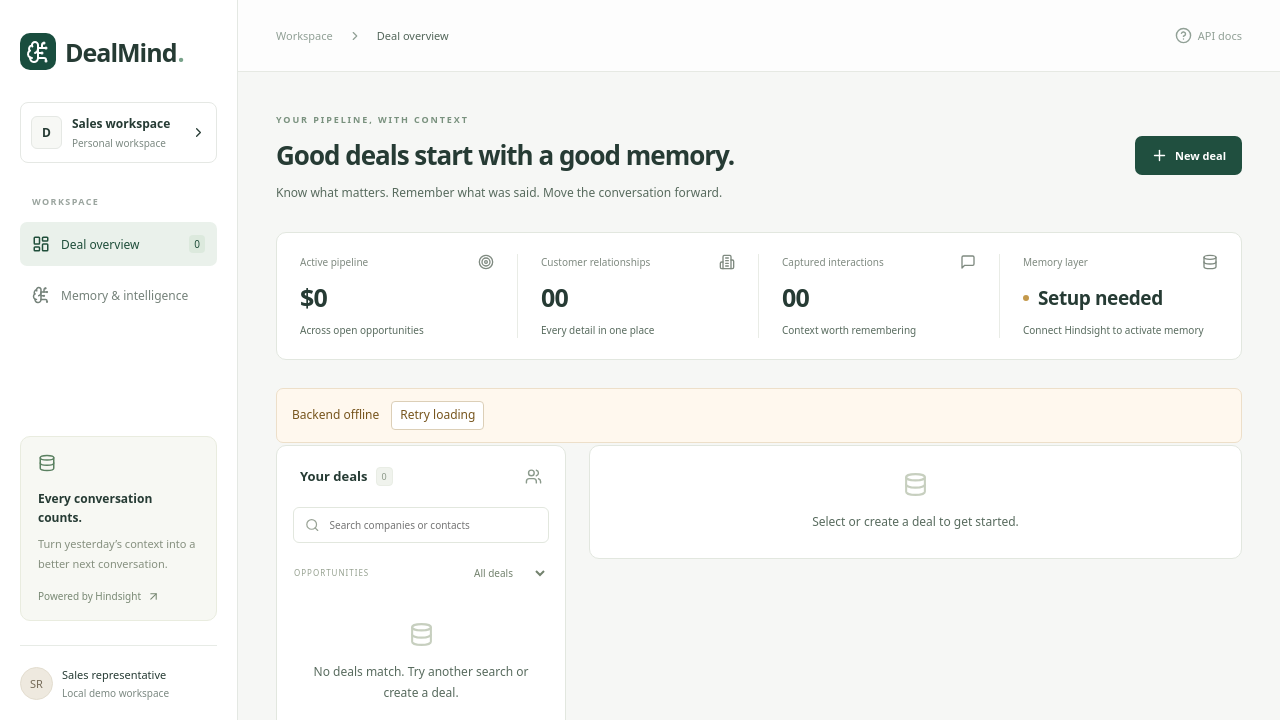
Scenario: DealMind dashboard › allows retry after backend loading fails
Expected: the message shows "Backend offline", top-left (292, 406), bottom-right (379, 423)
Click the button "Retry loading": (438, 416) top-left (391, 401), bottom-right (484, 430)
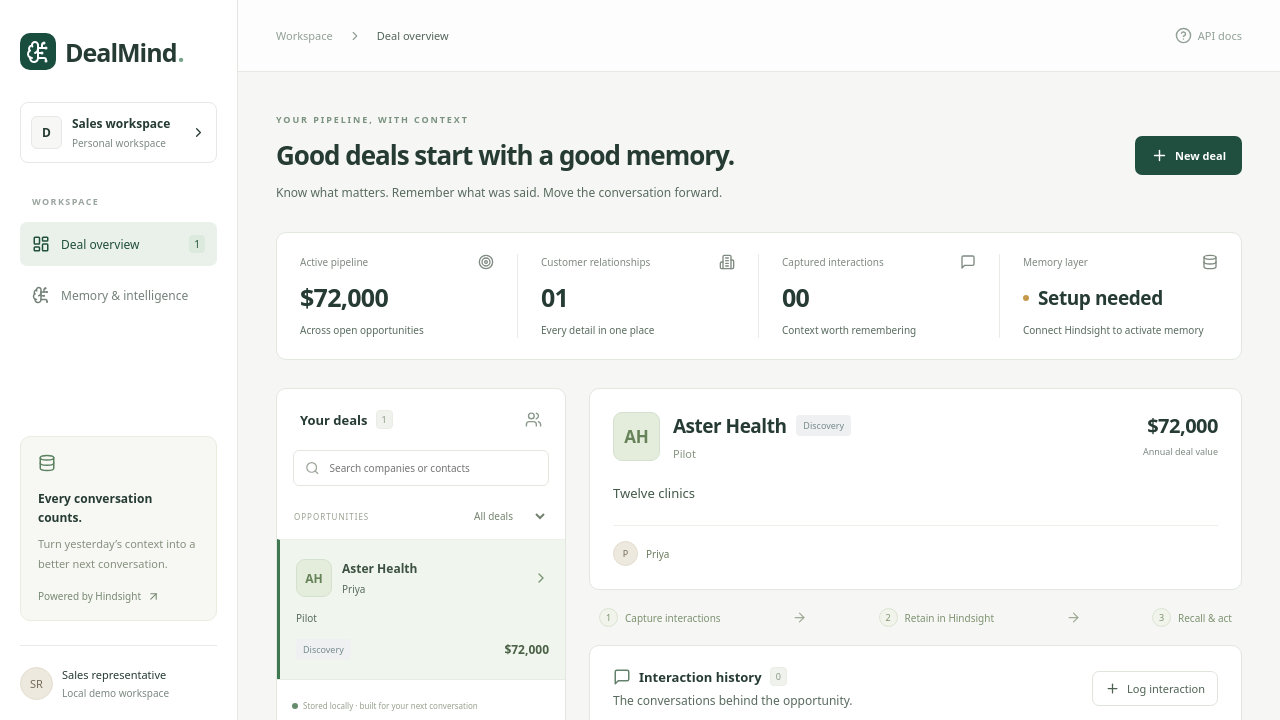
Result: the text "Twelve clinics" is shown at top-left (613, 484), bottom-right (695, 502)
